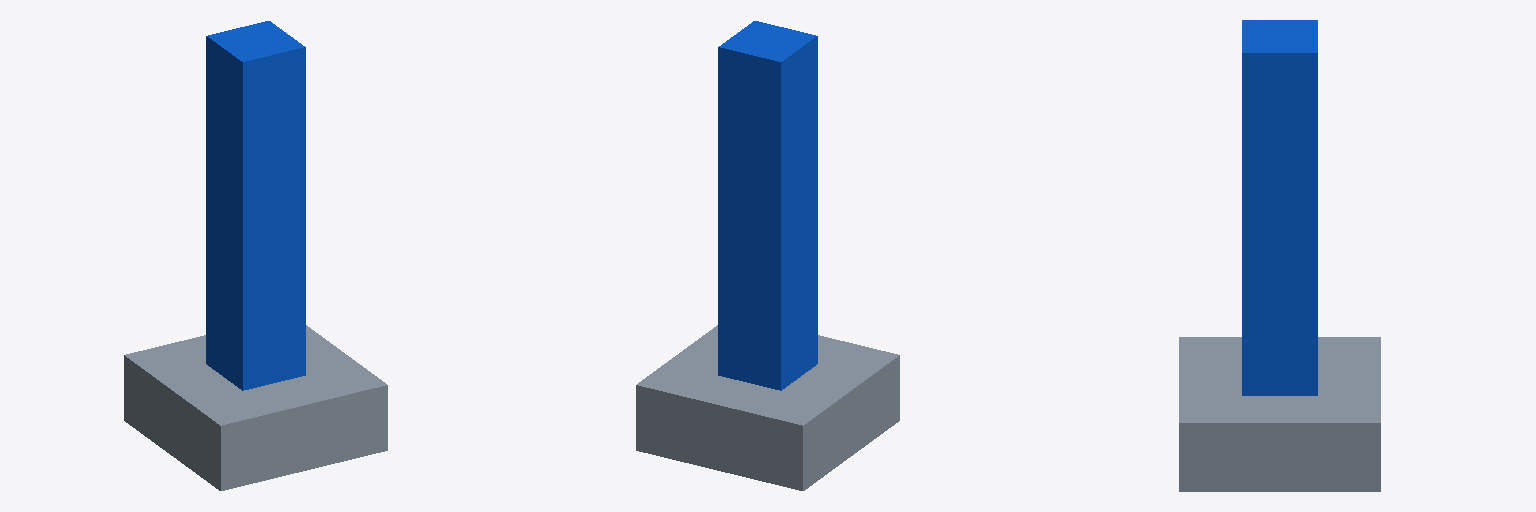
robot.urdf — robotheca_import_test:
<?xml version="1.0"?>
<!-- Test data for Robotheca's GitHub import. Not a real robot. -->
<robot name="robotheca_import_test">
  <material name="grey"><color rgba="0.6 0.65 0.7 1"/></material>
  <material name="blue"><color rgba="0.1 0.44 0.88 1"/></material>

  <link name="base_link">
    <visual>
      <geometry>
        <!-- Relative path, resolved from this file. -->
        <mesh filename="../stl/base.stl" scale="0.001 0.001 0.001"/>
      </geometry>
      <material name="grey"/>
    </visual>
  </link>

  <link name="arm_link">
    <visual>
      <geometry>
        <!-- package:// path, resolved inside the repository. -->
        <mesh filename="package://robotheca_import_test/stl/arm.stl" scale="0.001 0.001 0.001"/>
      </geometry>
      <material name="blue"/>
    </visual>
  </link>

  <joint name="shoulder" type="revolute">
    <parent link="base_link"/>
    <child link="arm_link"/>
    <origin xyz="0 0 0.03" rpy="0 0 0"/>
    <axis xyz="0 0 1"/>
    <limit lower="-3.14" upper="3.14" effort="1" velocity="1"/>
  </joint>
</robot>

--- Render facts (derived) ---
The picture shows the robot from 3 angles, left to right: view 1: azimuth 30°, elevation 25°; view 2: azimuth 150°, elevation 25°; view 3: azimuth 270°, elevation 25°; orthographic projection.
Model robotheca_import_test with 2 links and 1 joints (1 revolute), rooted at base_link, posed every joint at zero.
Links seen in each view (by area): view 1: arm_link, base_link; view 2: arm_link, base_link; view 3: arm_link, base_link.
Link boxes in pixels (bbox=[...]): arm_link: bbox=[206, 21, 305, 390]; base_link: bbox=[124, 325, 387, 490]; arm_link: bbox=[718, 21, 817, 390]; base_link: bbox=[636, 325, 899, 490]; arm_link: bbox=[1242, 20, 1317, 395]; base_link: bbox=[1179, 337, 1380, 491].
Bounding box of the posed robot: 0.08 × 0.08 × 0.18 m (x, y, z).
Meshes: 2 distinct files referenced, 2 mesh visuals loaded (2 binary STL).
